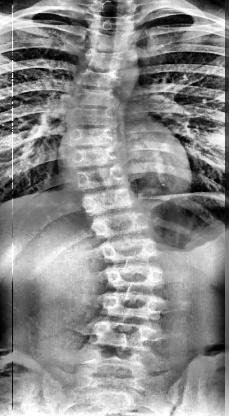Vertebrae: (74, 365, 144, 403), (91, 320, 158, 354), (78, 344, 148, 376), (106, 260, 167, 294), (98, 291, 164, 321), (78, 188, 140, 216), (102, 237, 160, 265), (90, 212, 152, 238), (66, 145, 126, 171), (70, 165, 128, 191), (67, 126, 121, 152), (67, 104, 116, 130), (70, 86, 121, 110), (85, 11, 139, 33), (74, 68, 128, 90), (86, 30, 134, 52), (82, 48, 128, 70)
